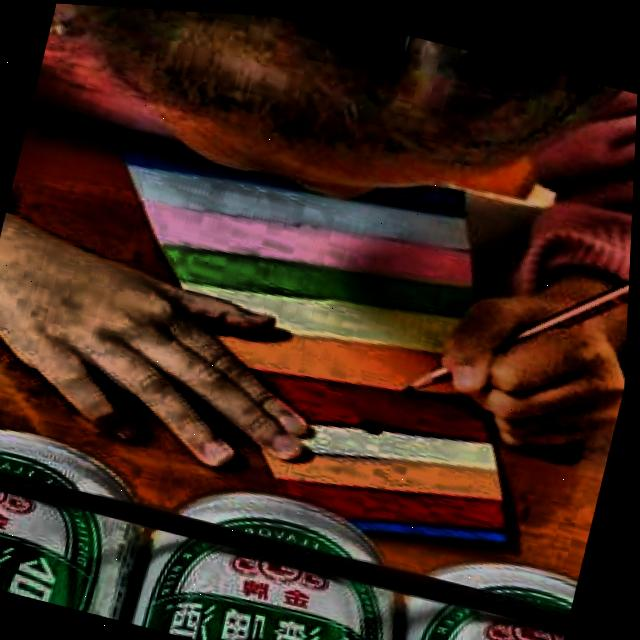metal: (111, 448, 459, 640), (0, 410, 182, 625)
